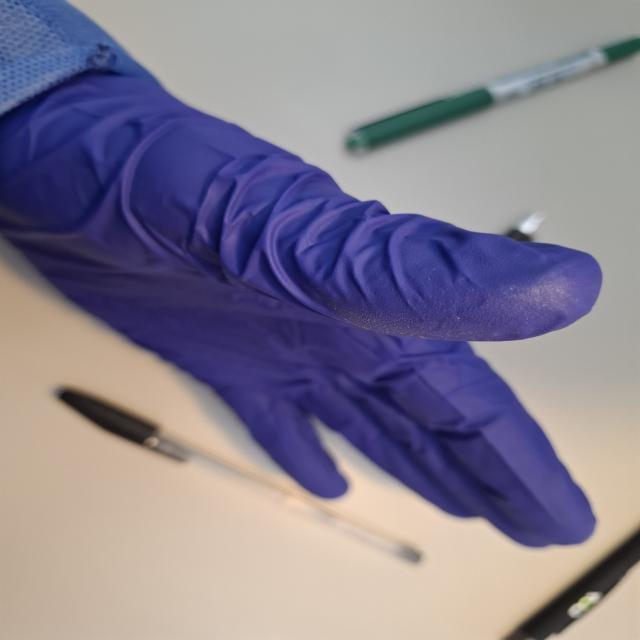glove_on: (0, 66, 609, 552)
